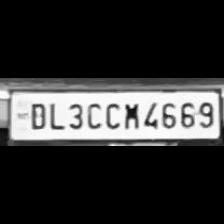3: (64, 98, 84, 130)
4: (140, 98, 160, 130)
6: (158, 98, 176, 130), (176, 98, 194, 130)
9: (194, 99, 216, 129)
C: (84, 100, 104, 130), (102, 99, 120, 130)
D: (25, 100, 48, 130)
L: (45, 98, 63, 130)
M: (120, 99, 140, 131)
